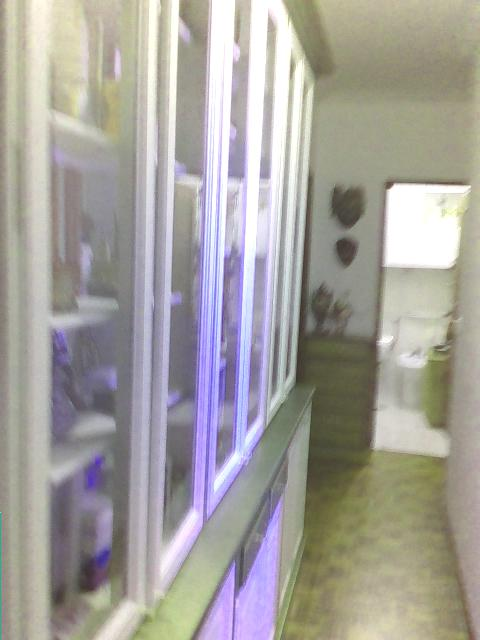open_door: (368, 176, 472, 460)
